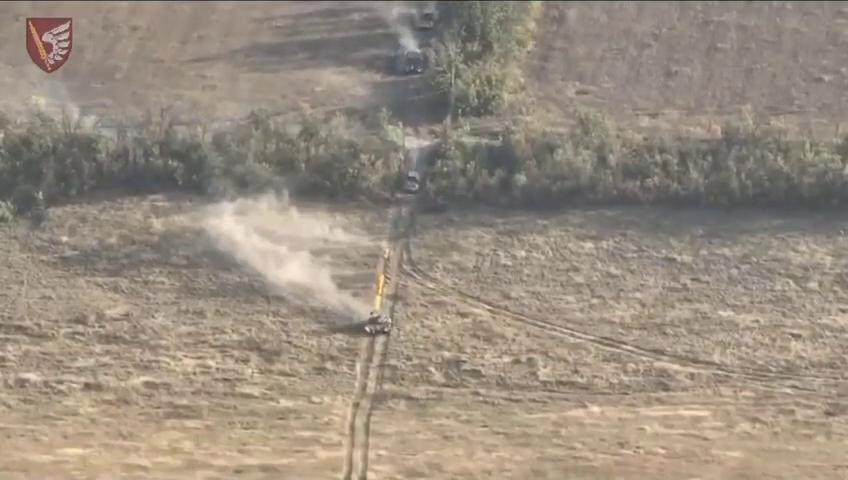tank: (364, 308, 397, 337), (401, 44, 425, 79), (413, 7, 437, 34), (403, 170, 426, 197)
